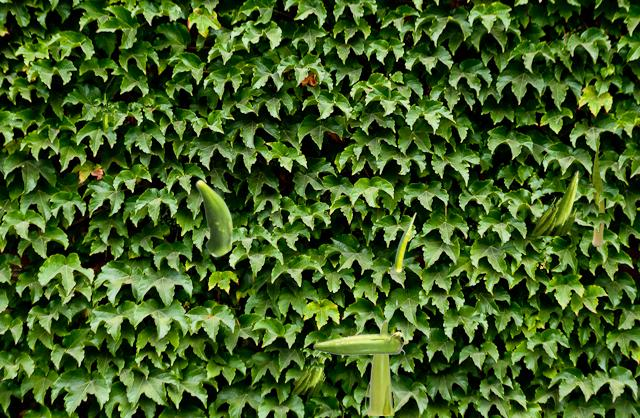okra: (531, 170, 579, 234), (195, 179, 232, 256), (364, 320, 394, 414), (313, 331, 407, 354), (291, 357, 326, 393), (394, 212, 415, 272), (592, 147, 603, 245), (102, 93, 107, 132)
